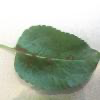Apple Scab Leaf: (15, 28, 99, 92)
